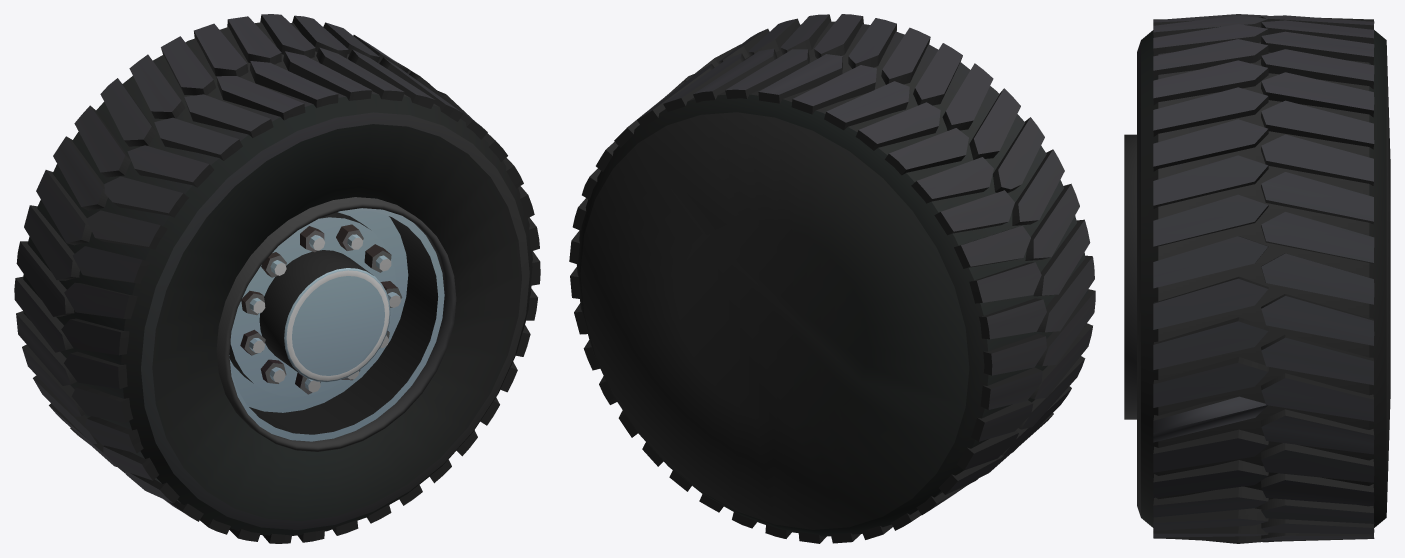
File: wheel_02.fbx
The picture shows the model from 3 angles, left to right: view 1: azimuth 30°, elevation 25°; view 2: azimuth 150°, elevation 25°; view 3: azimuth 270°, elevation 25°; orthographic projection. The views are drawn at different scales.
Visible parts, largest first — view 1: wheel_02; view 2: wheel_02; view 3: wheel_02.
Part boxes in pixels (box(x1,y1,x2,y2)): wheel_02: box(14, 14, 540, 543); wheel_02: box(569, 14, 1095, 543); wheel_02: box(1124, 14, 1390, 543).
Size of the model in its own units: 110 by 110 by 55.25.
